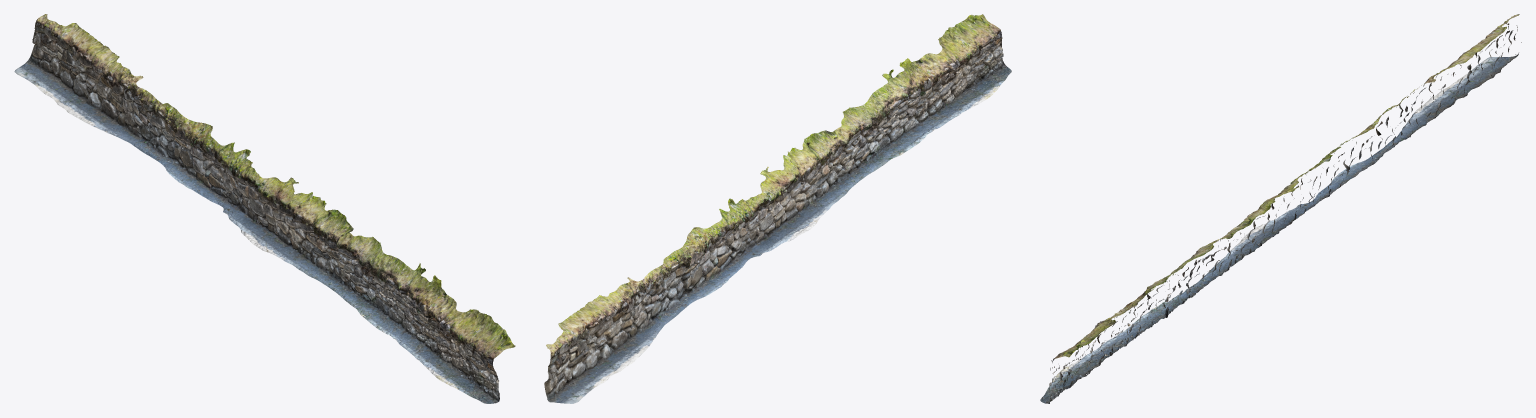
Rendered from stone_wall.glb.
3 views of the same model, side by side, from view 1: azimuth 30°, elevation 25°; view 2: azimuth 150°, elevation 25°; view 3: azimuth 330°, elevation 25° (orthographic). The views are drawn at different scales.
Parts seen in each view (by area): view 1: stone_wall; view 2: stone_wall; view 3: stone_wall.
Boxes of the visible parts, bbox=[...] form: stone_wall: bbox=[14, 14, 515, 403]; stone_wall: bbox=[544, 14, 1011, 403]; stone_wall: bbox=[1040, 14, 1521, 403].
Bounding box in the file's own units: 1.06 × 1.23 × 16.98.
Materials: 1 (1 with a texture image).
